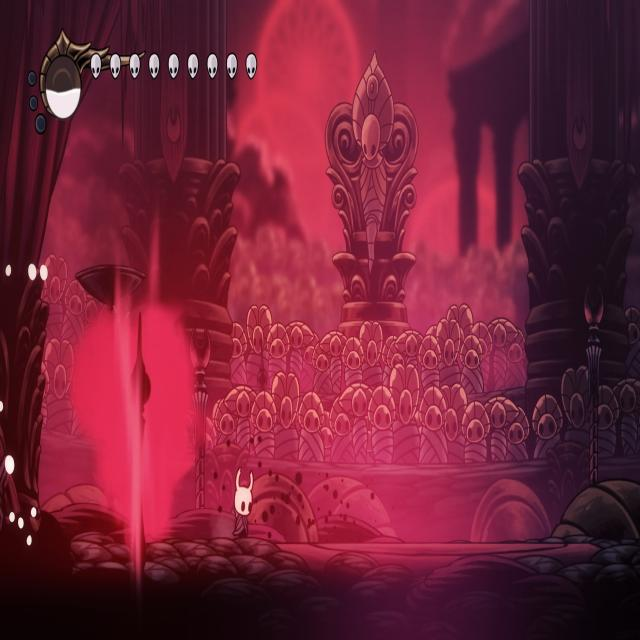Player: (227, 454, 255, 540)
